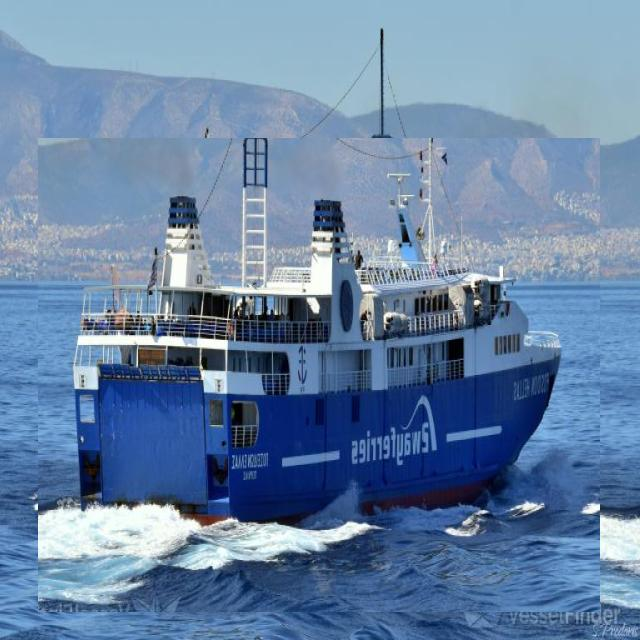PassengerShip: (38, 138, 600, 612)
